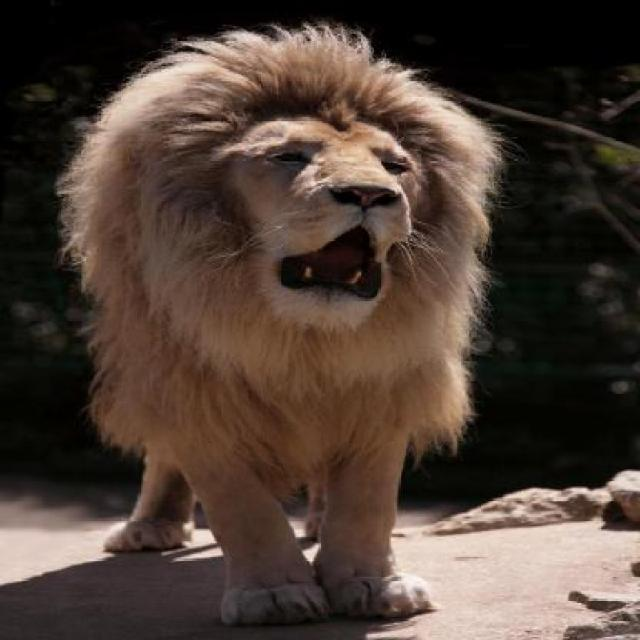Lion: (83, 21, 535, 634)
